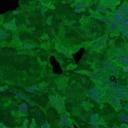alloviz: (47, 54, 64, 76), (70, 46, 86, 65), (1, 1, 20, 16)
